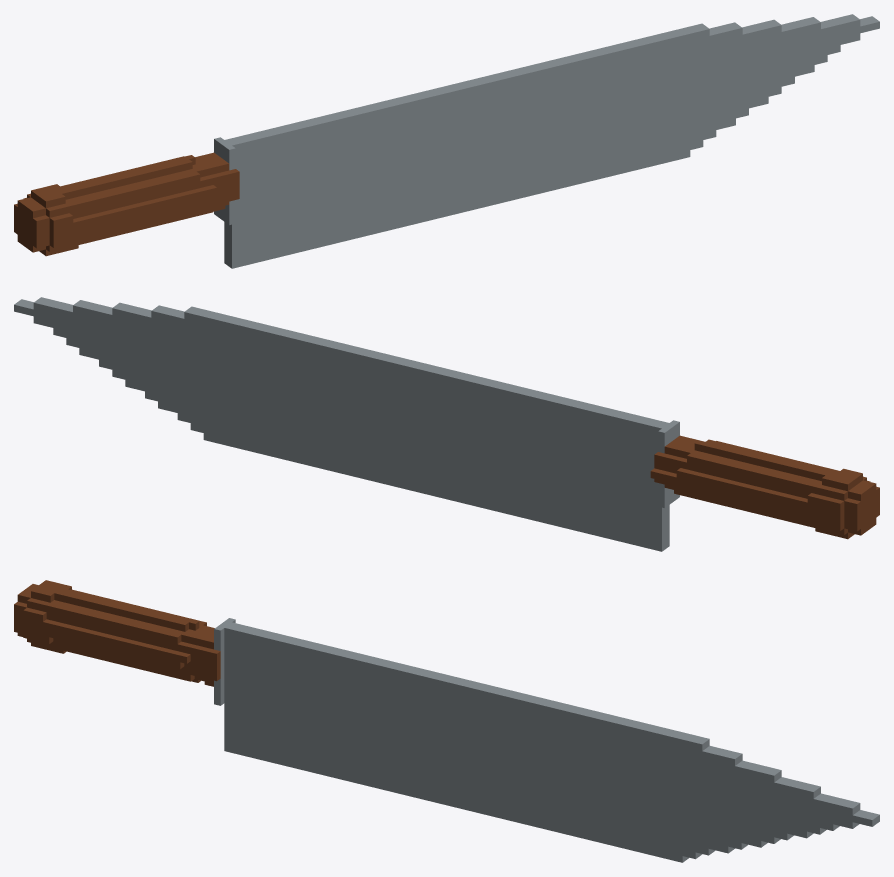
The model's file is machete.glb.
The picture shows the model from 3 angles, top to bottom: view 1: azimuth 30°, elevation 25°; view 2: azimuth 150°, elevation 25°; view 3: azimuth 330°, elevation 25°; orthographic projection.
Parts seen in each view (by area): view 1: machete:knife; view 2: machete:knife; view 3: machete:knife.
Boxes of the visible parts, bbox=[...] form: machete:knife: bbox=[14, 14, 879, 268]; machete:knife: bbox=[14, 297, 879, 551]; machete:knife: bbox=[14, 580, 879, 862].
Size of the model in its own units: 0.52 by 0.072 by 0.032.
